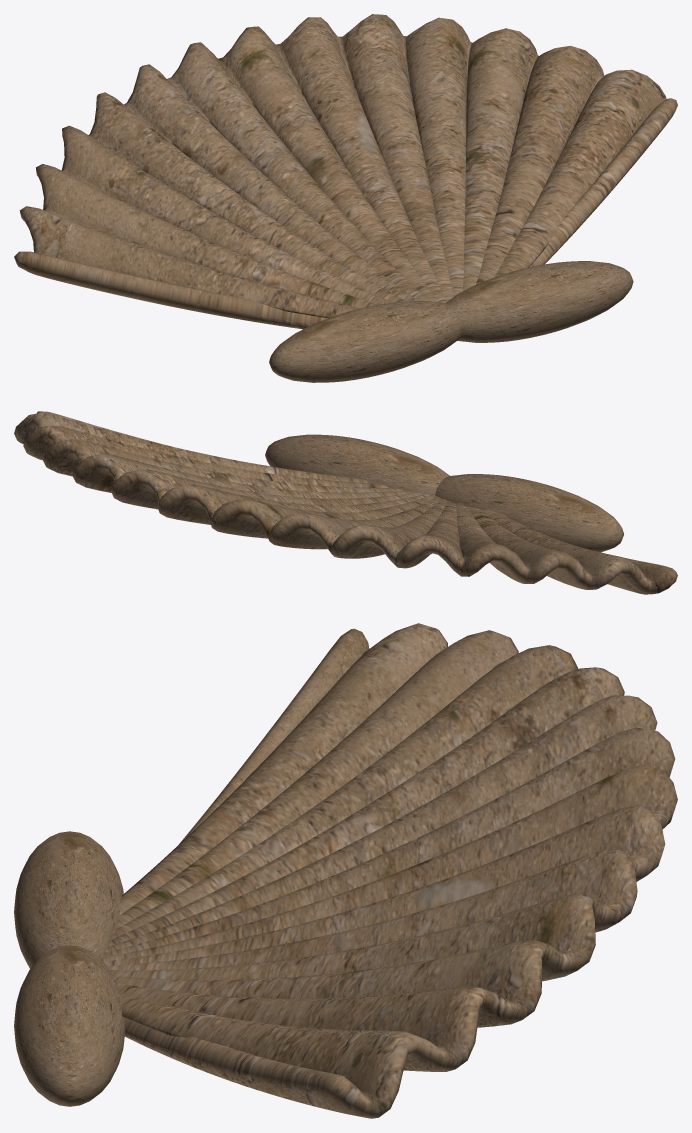
Rendered from shell_a.glb.
The picture shows the model from 3 angles, top to bottom: view 1: azimuth 30°, elevation 25°; view 2: azimuth 150°, elevation 25°; view 3: azimuth 270°, elevation 25°; orthographic projection. The views are drawn at different scales.
Parts seen in each view (by area): view 1: shell_a; view 2: shell_a; view 3: shell_a.
Boxes of the visible parts, x1,y1,x2,y2 form: shell_a: (14,14,677,382); shell_a: (14,411,677,594); shell_a: (14,623,677,1118).
Bounding box in the file's own units: 0.0606 × 0.0152 × 0.037.
Materials: 1 (1 with a texture image).
